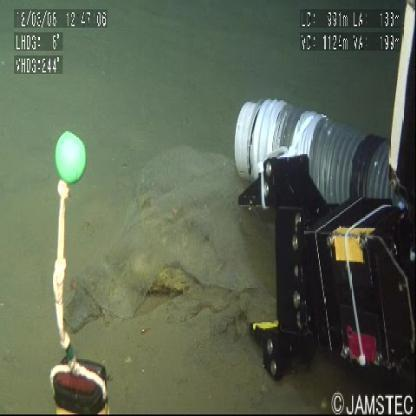Rác: (66, 150, 279, 335)
